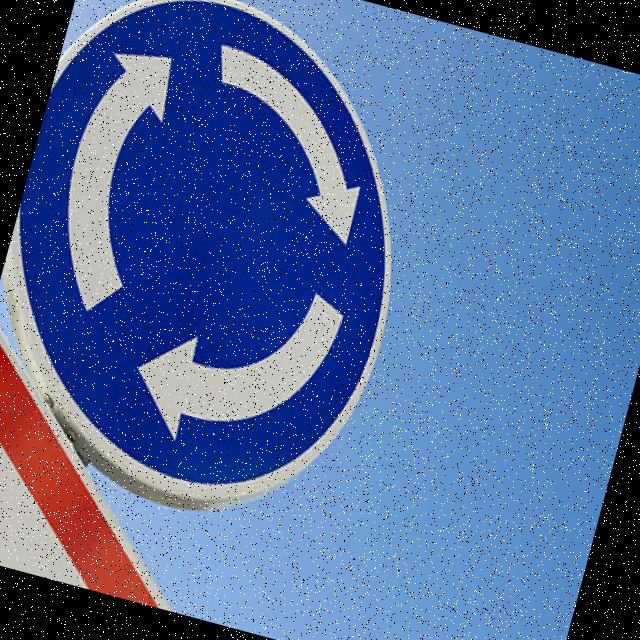round_about: (0, 0, 474, 542)
